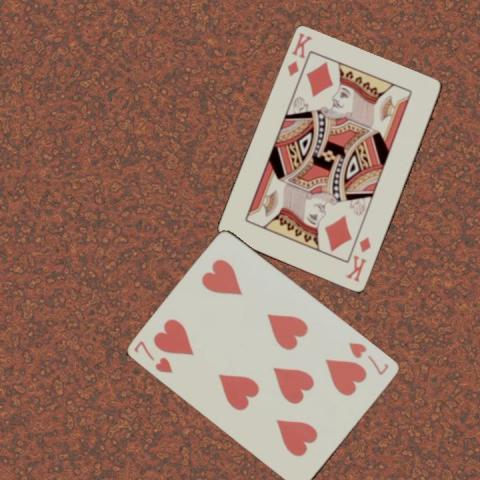7h: (346, 339, 391, 377), (131, 337, 175, 375)
Kd: (343, 234, 373, 284), (284, 30, 314, 79)
